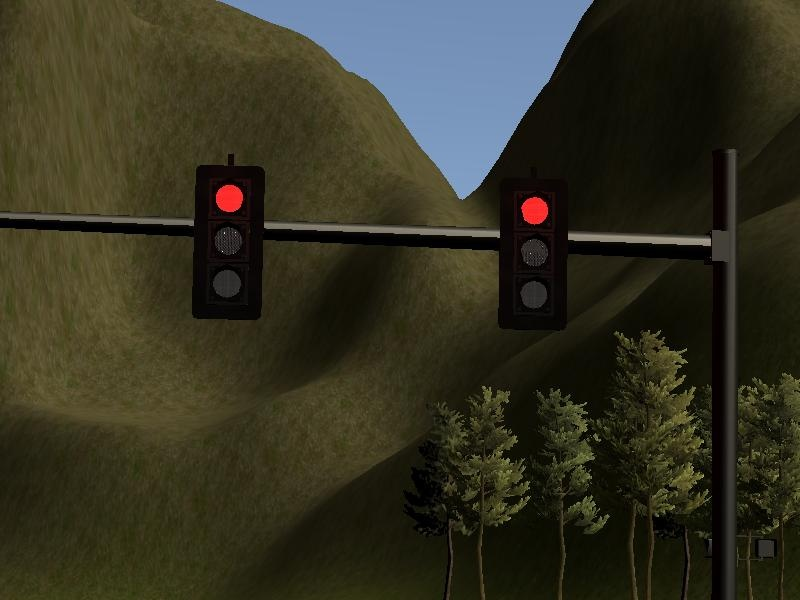red: (191, 160, 269, 323), (495, 177, 570, 336)
